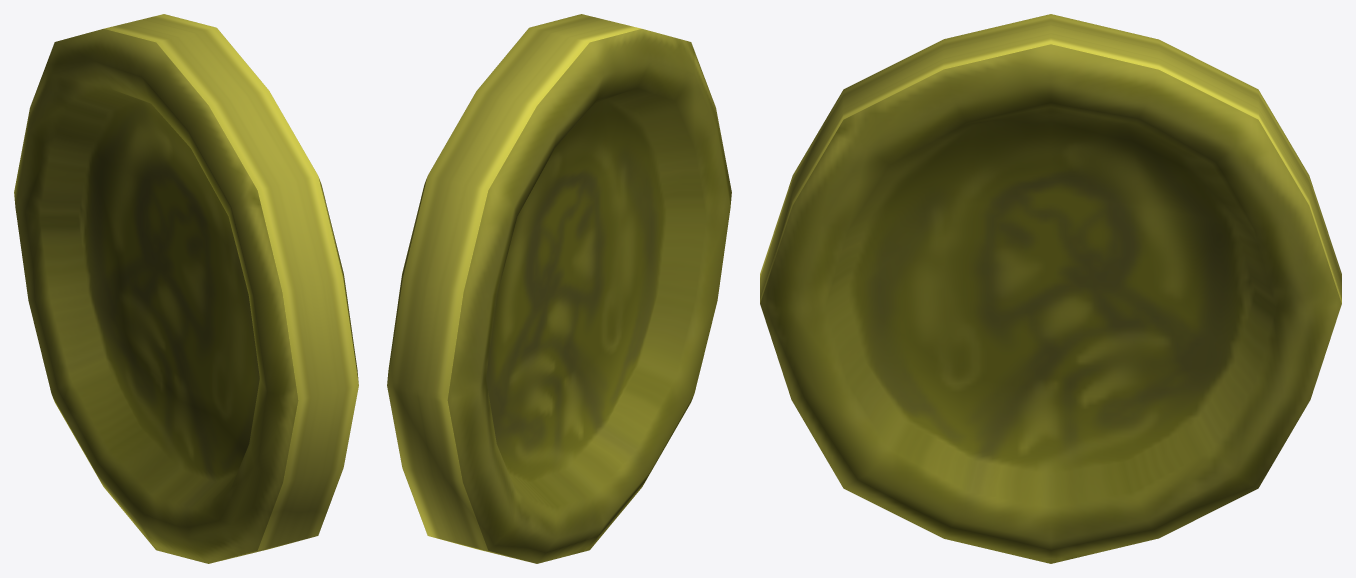
Rendered from Coin.fbx.
3 renders of one model, left to right at view 1: azimuth 30°, elevation 25°; view 2: azimuth 150°, elevation 25°; view 3: azimuth 270°, elevation 25°, orthographic. The views are drawn at different scales.
Visible parts, largest first — view 1: Cylinder; view 2: Cylinder; view 3: Cylinder.
Boxes of the visible parts, x1,y1,x2,y2 form: Cylinder: [14, 14, 358, 563]; Cylinder: [387, 14, 731, 563]; Cylinder: [760, 14, 1341, 563].
Size of the model in its own units: 35.07 by 189 by 192.
1 material, 1 textured.
